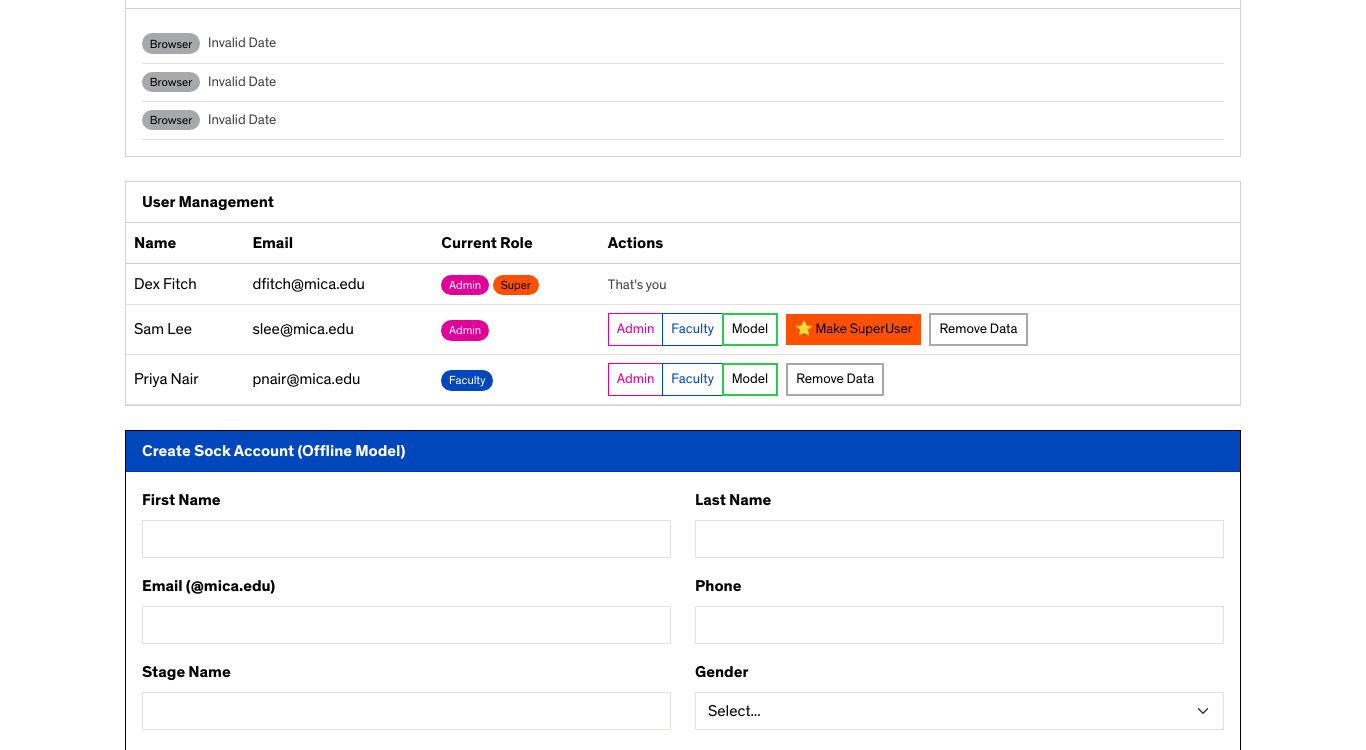
Scenario: SuperUserPanel › explains why changing someone else's role failed
This screenshot has width=1366, height=750.
(page scrolled)
Click the button "Admin" in the row of "Priya". click: point(636, 380)
box: [608, 363, 663, 396]
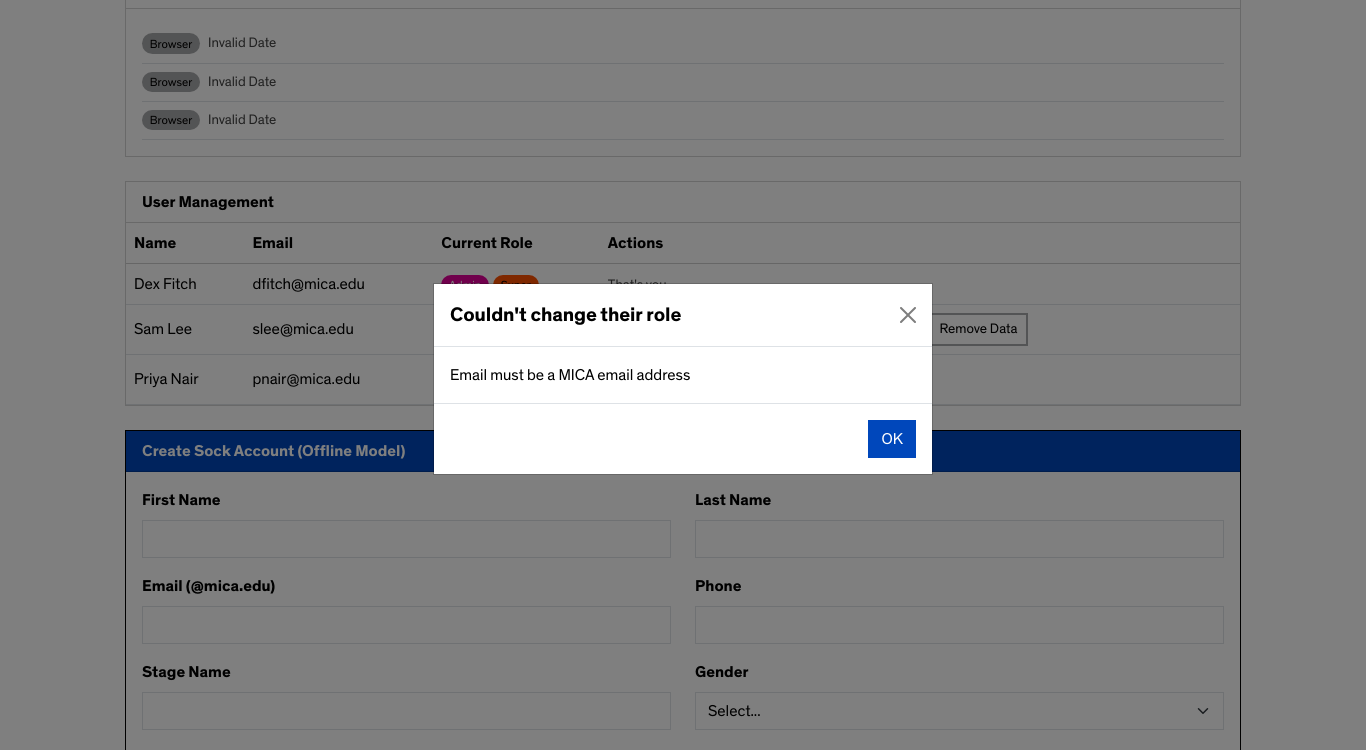
Check: the dialog shows "Email must be a MICA email address", box [450, 367, 690, 383]
